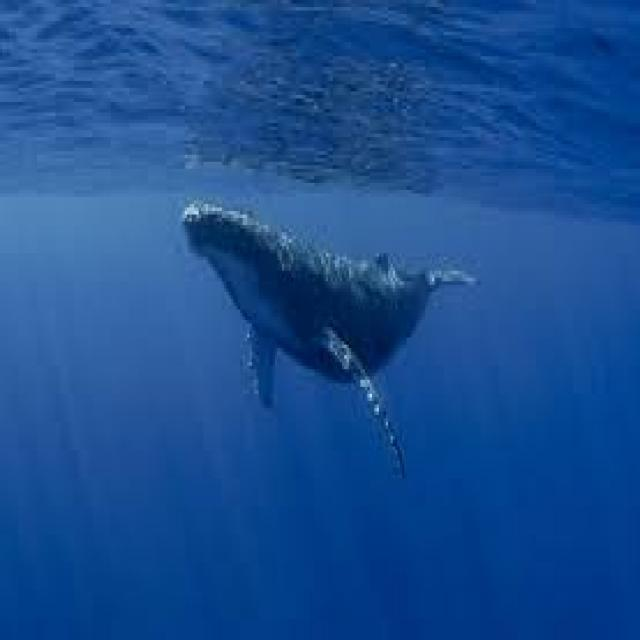blue_whale: (170, 154, 502, 482)
